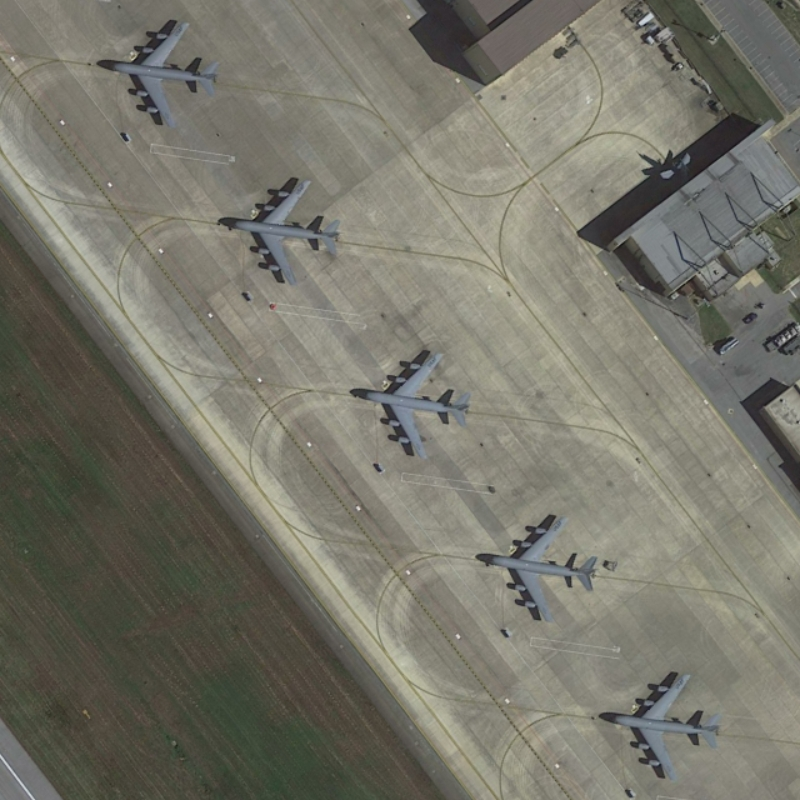A14: (604, 670, 727, 783), (480, 512, 601, 626), (104, 19, 223, 131), (228, 177, 343, 291), (358, 347, 472, 462)
